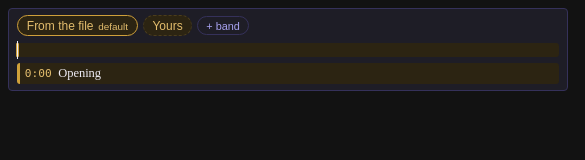
MaterialChapters — what it shows › opens the default band, and switches to the one that is clicked
Expected: the text "Opening" is shown, x1=58 y1=66 x2=101 y2=80
Click the button "Yours". click: coordinates (168, 26)
box: x1=143 y1=15 x2=192 y2=36
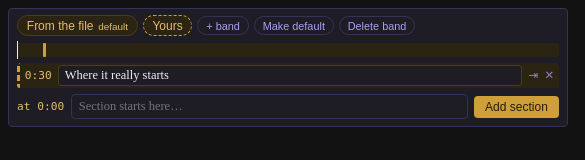
Expected: the field named "Title of the section at 0:30" holds "Where it really starts", x1=58 y1=65 x2=522 y2=86
Expected: the text "Opening" is gone
